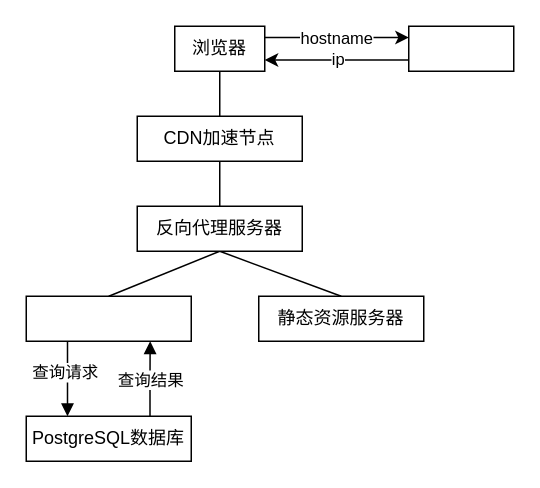
The diagram is 540 pixels wide and 488 high, and some of its shapes have lost their labels. Here are the shapes that lost their labels. From the top down, the box of each, then its label:
(407, 25, 514, 71): DNS服务器
(25, 295, 191, 341): Golang后端服务器
